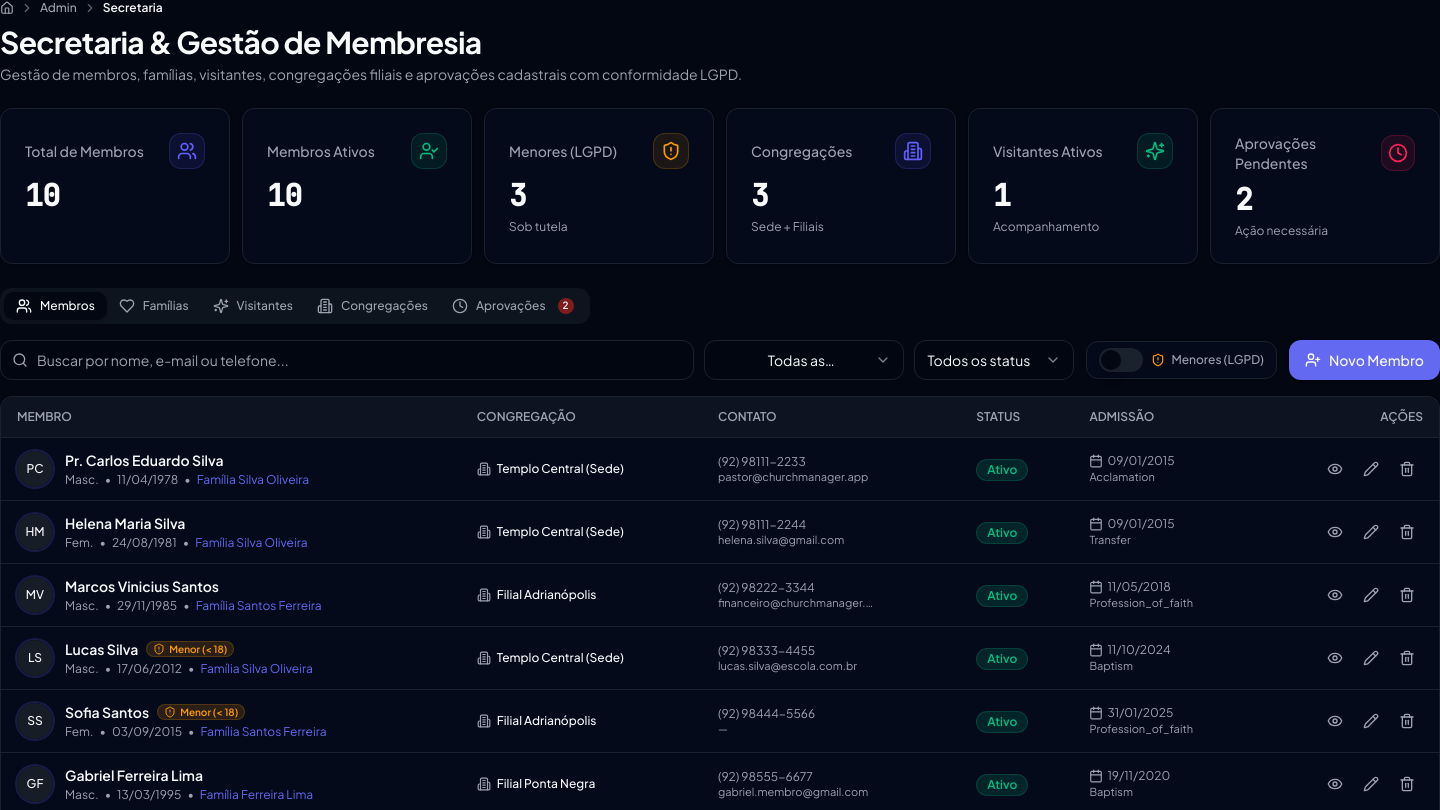
Test: Etapa 04 — Secretaria & Gestão de Membresia › deve abrir o modal de detalhes do membro com informações de tutela LGPD
The image size is (1440, 810).
Check: the text "Lucas Silva" is shown, box [65,639,138,659]
// Clica no botão de ver detalhes do primeiro membro menor
Click the button titled "Ver detalhes completos" in the row of "LS": (1335, 658) [1319,642,1351,674]
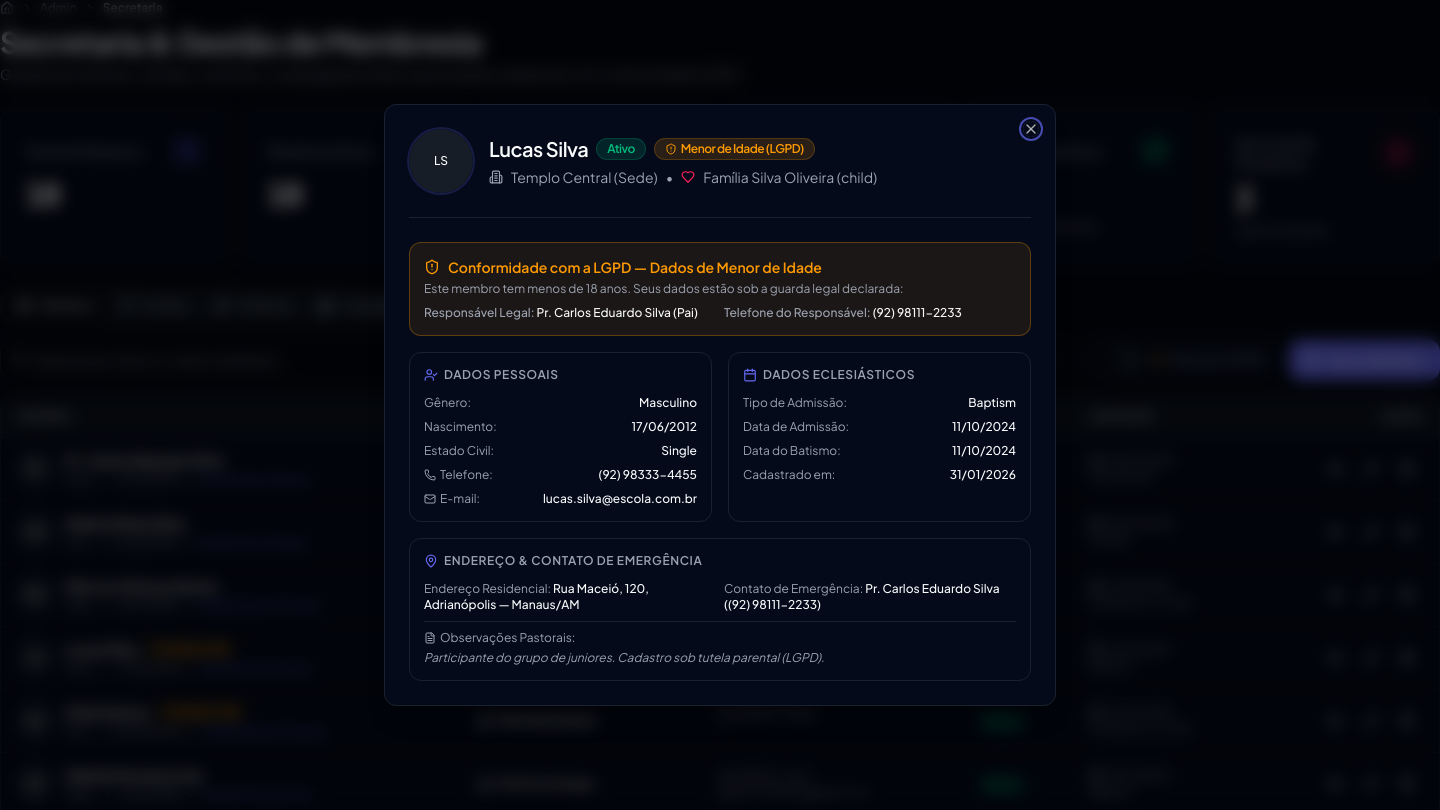
Check: the text "Conformidade com a LGPD — Dados de Menor de Idade" is shown, box [448,257,822,277]
Check: the text "Responsável Legal: Pr. Carlos Eduardo Silva (Pai)" is shown, box [424,305,716,321]
